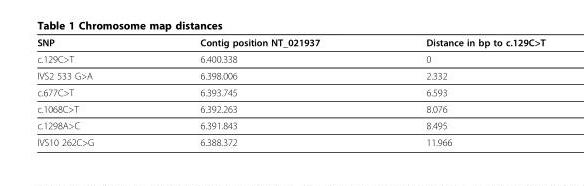table: (36, 36, 544, 147)
table column: (146, 36, 372, 147), (372, 36, 544, 147), (36, 36, 146, 147)
table column header: (36, 36, 544, 50)
table row: (36, 50, 544, 67), (36, 83, 544, 100), (36, 116, 544, 133), (36, 67, 544, 83), (36, 100, 544, 116), (36, 36, 544, 50), (36, 133, 544, 147)
